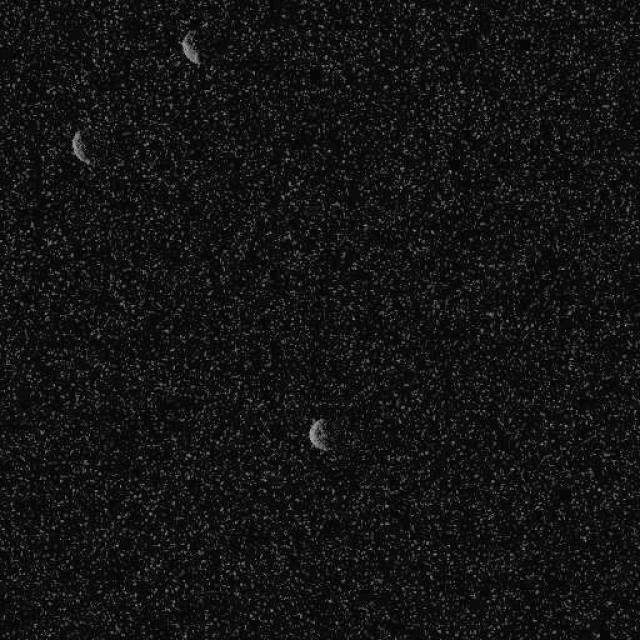D2: (70, 128, 94, 168), (308, 417, 332, 452), (179, 27, 201, 65)
